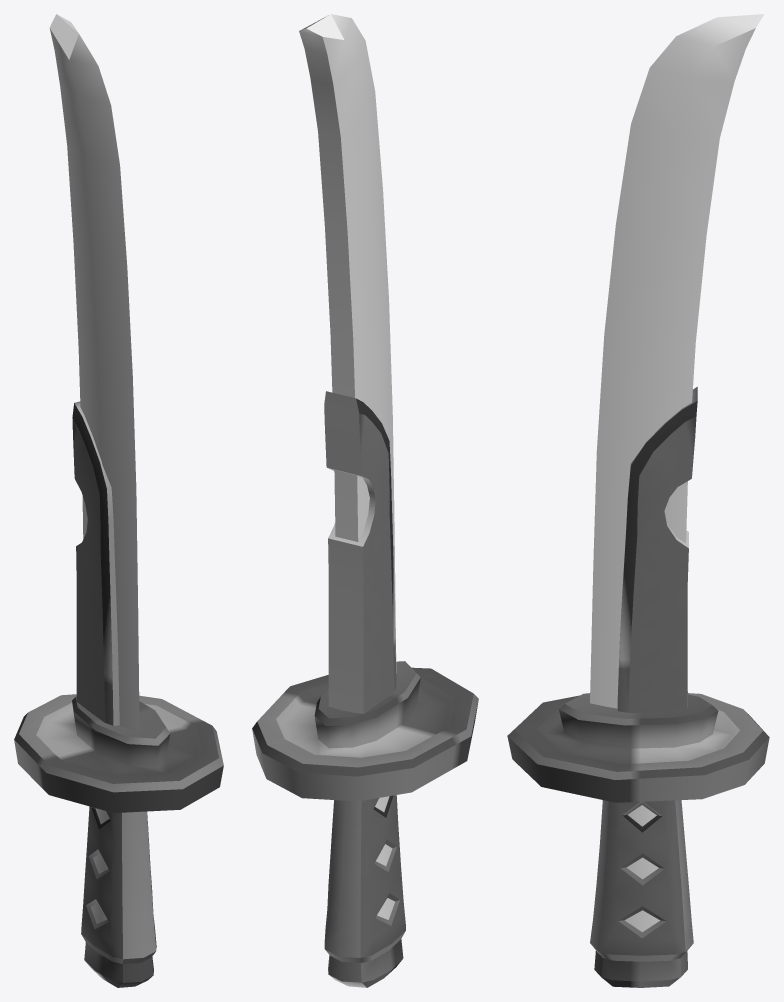
3 views of the same model, side by side, from view 1: azimuth 30°, elevation 25°; view 2: azimuth 150°, elevation 25°; view 3: azimuth 270°, elevation 25° (orthographic). The views are drawn at different scales.
Visible parts, largest first — view 1: Weap_group1Weap6; view 2: Weap_group1Weap6; view 3: Weap_group1Weap6.
Boxes of the visible parts, left/top/right/bottom form: Weap_group1Weap6: left=14, top=14, right=223, bottom=987; Weap_group1Weap6: left=252, top=14, right=478, bottom=987; Weap_group1Weap6: left=507, top=14, right=769, bottom=987.
Bounding box in the file's own units: 2.34 × 12.05 × 2.97.
